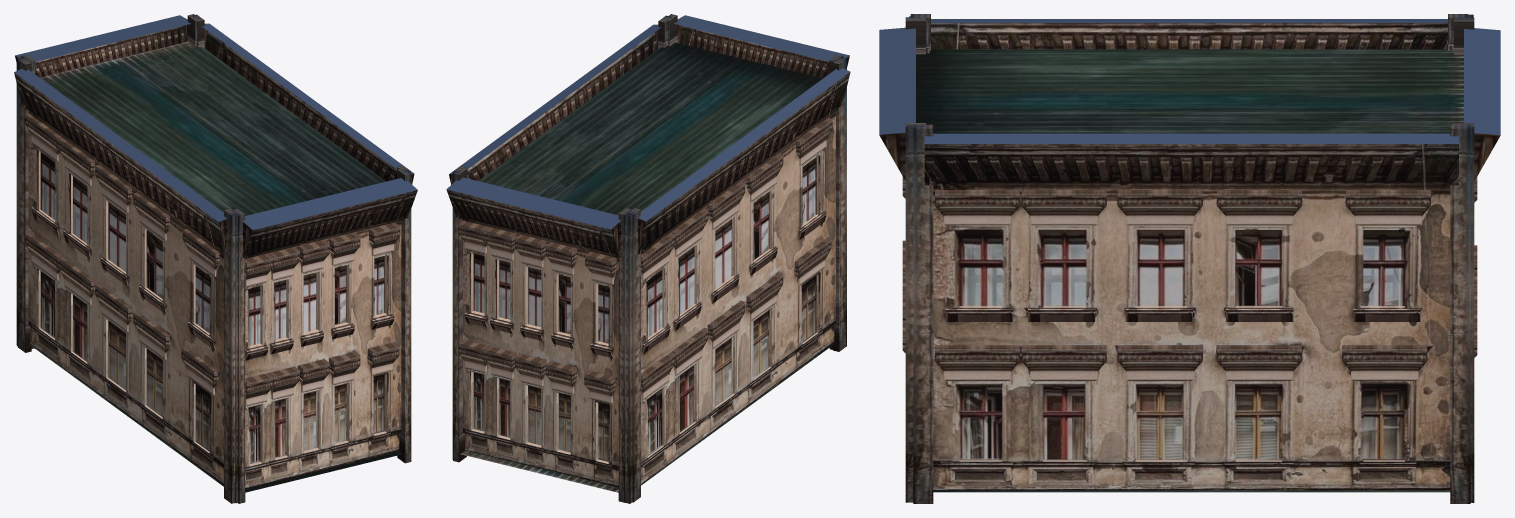
3 renders of one model, left to right at view 1: azimuth 30°, elevation 25°; view 2: azimuth 150°, elevation 25°; view 3: azimuth 270°, elevation 25°, orthographic. The views are drawn at different scales.
Parts seen in each view (by area): view 1: Plane.031; view 2: Plane.031; view 3: Plane.031.
Boxes of the visible parts, x1,y1,x2,y2 form: Plane.031: (14, 14, 417, 503); Plane.031: (446, 14, 850, 503); Plane.031: (879, 14, 1500, 503).
Bounding box in the file's own units: 1.22 × 1.71 × 2.56.
2 materials, 2 textured.
